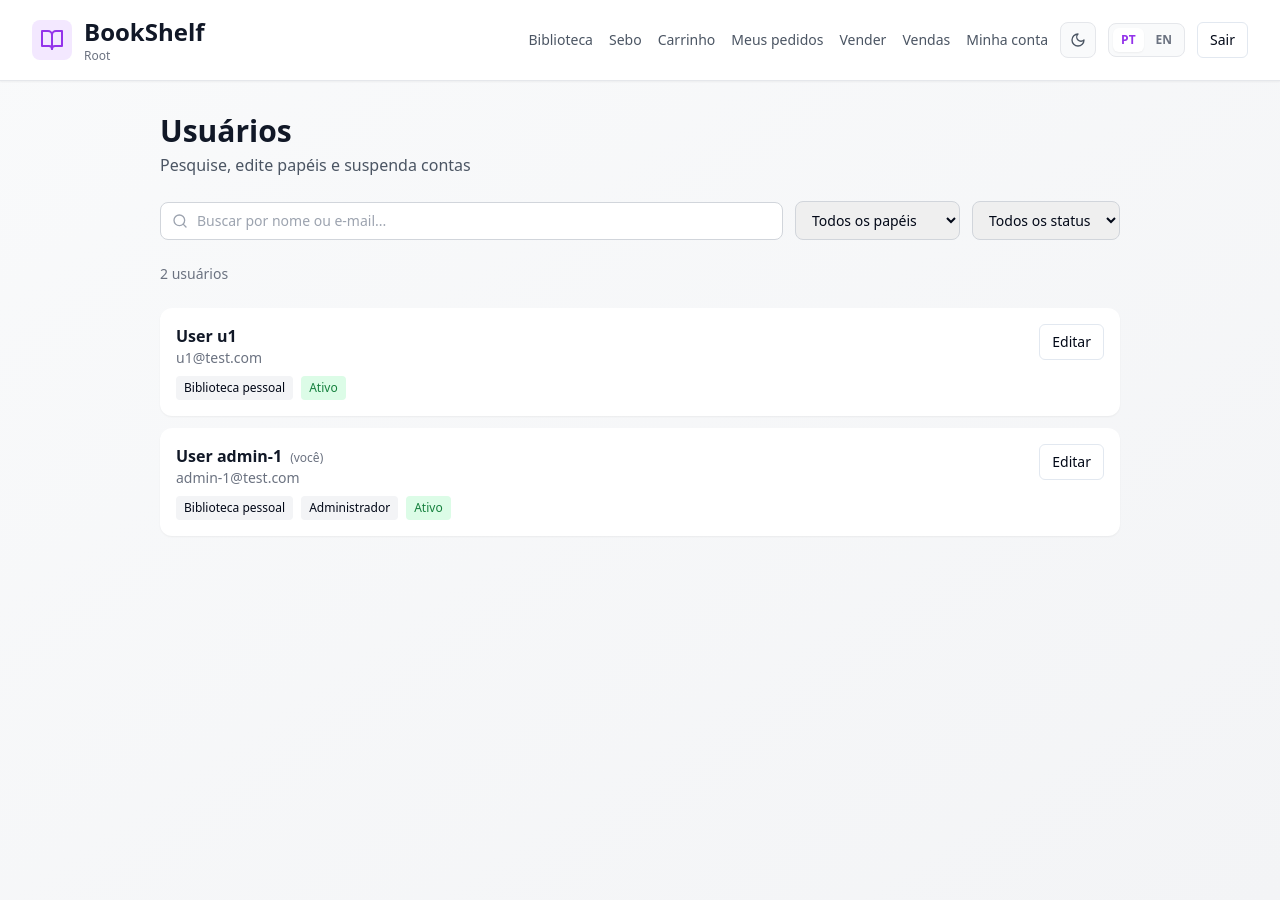
Test: AdminUsersPage editing › sends only what changed and reloads the list
The width and height of the screenshot is (1280, 900).
Click the button "Editar" in the row of "User u1".
click(1072, 342)  # box [1039,324,1104,360]
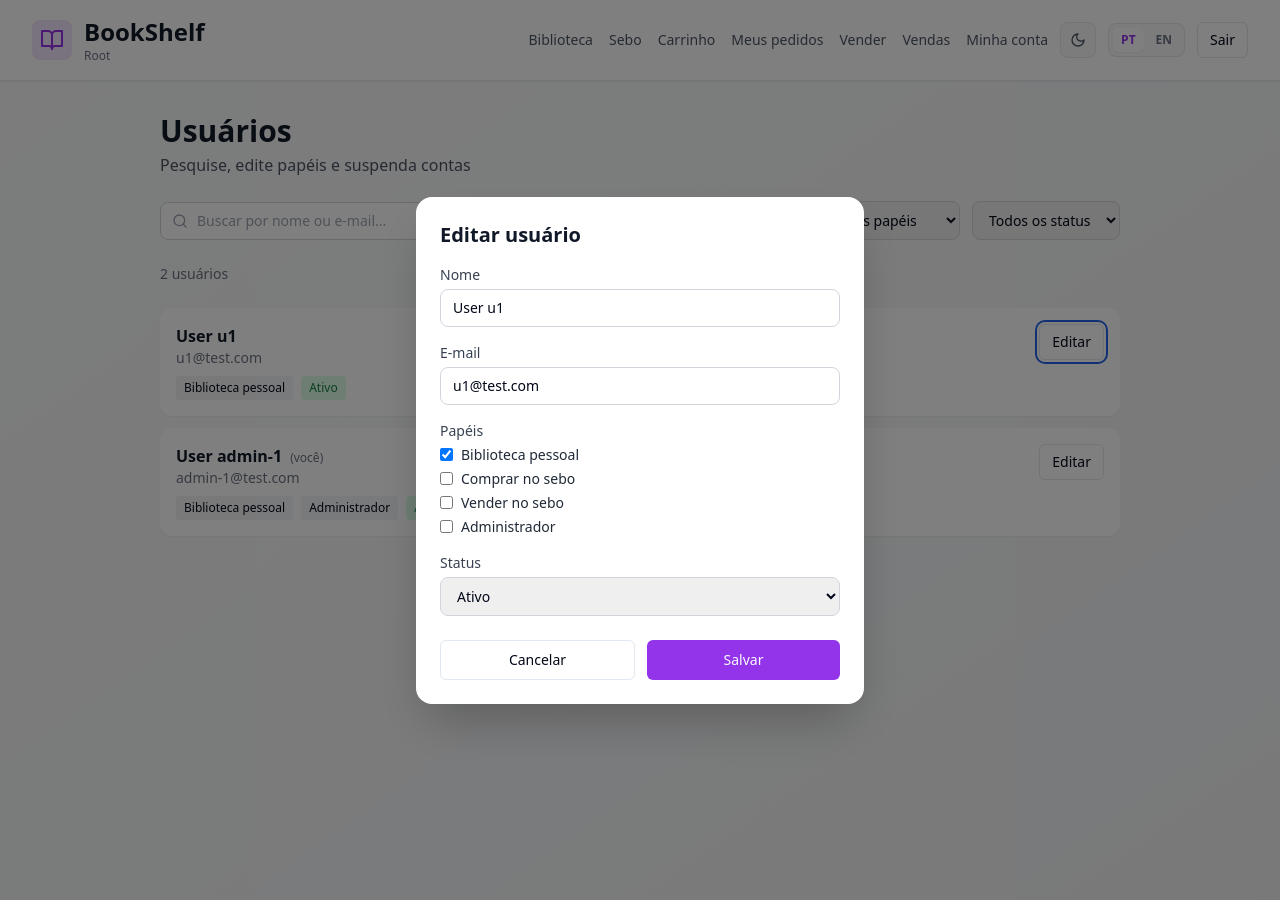
Replace the text in the field with test id "edit-user-name" with "Renamed" at (640, 308), box [440,288,840,326]
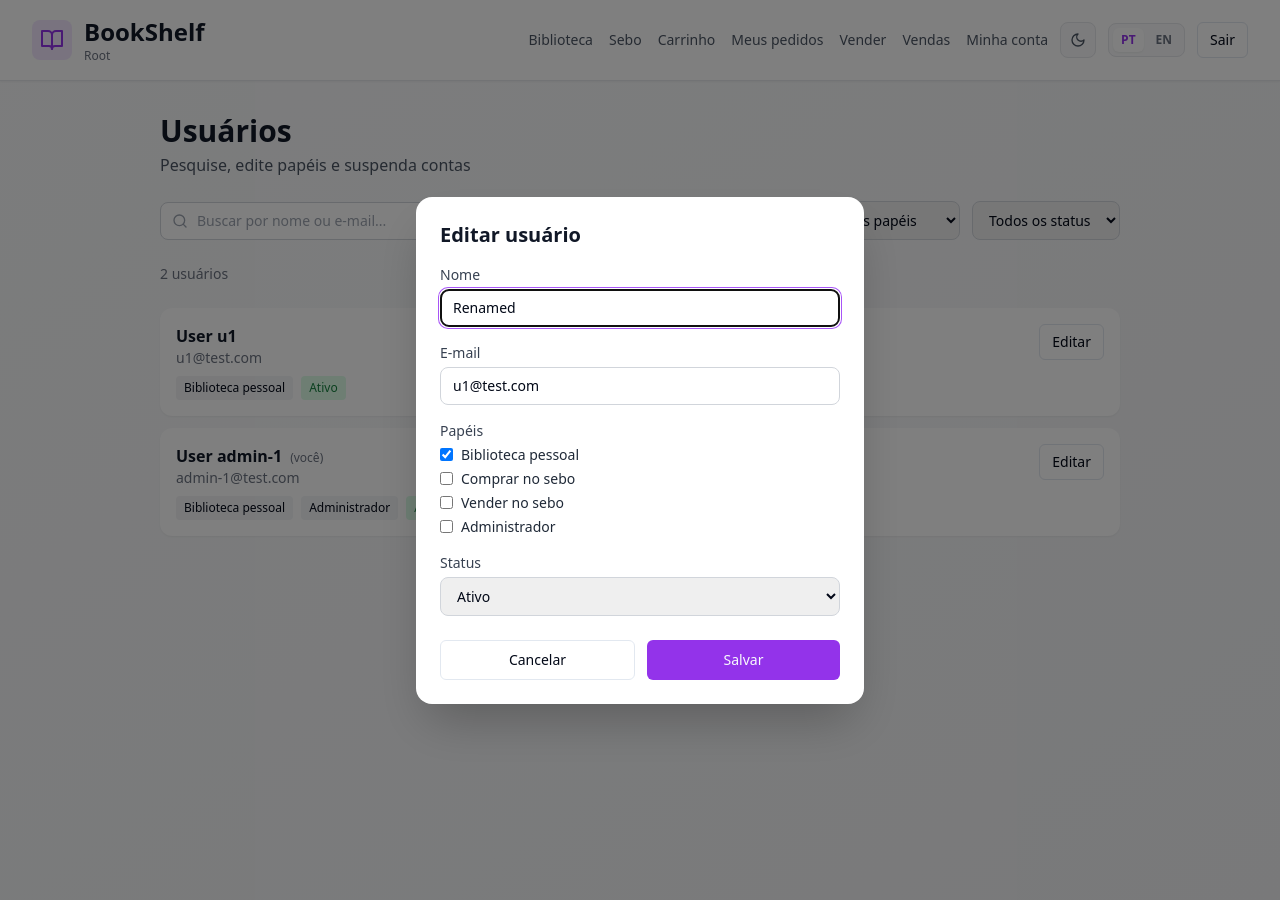
Click the checkbox with test id "edit-user-role-seller".
click(446, 502)  # box [440,496,453,509]
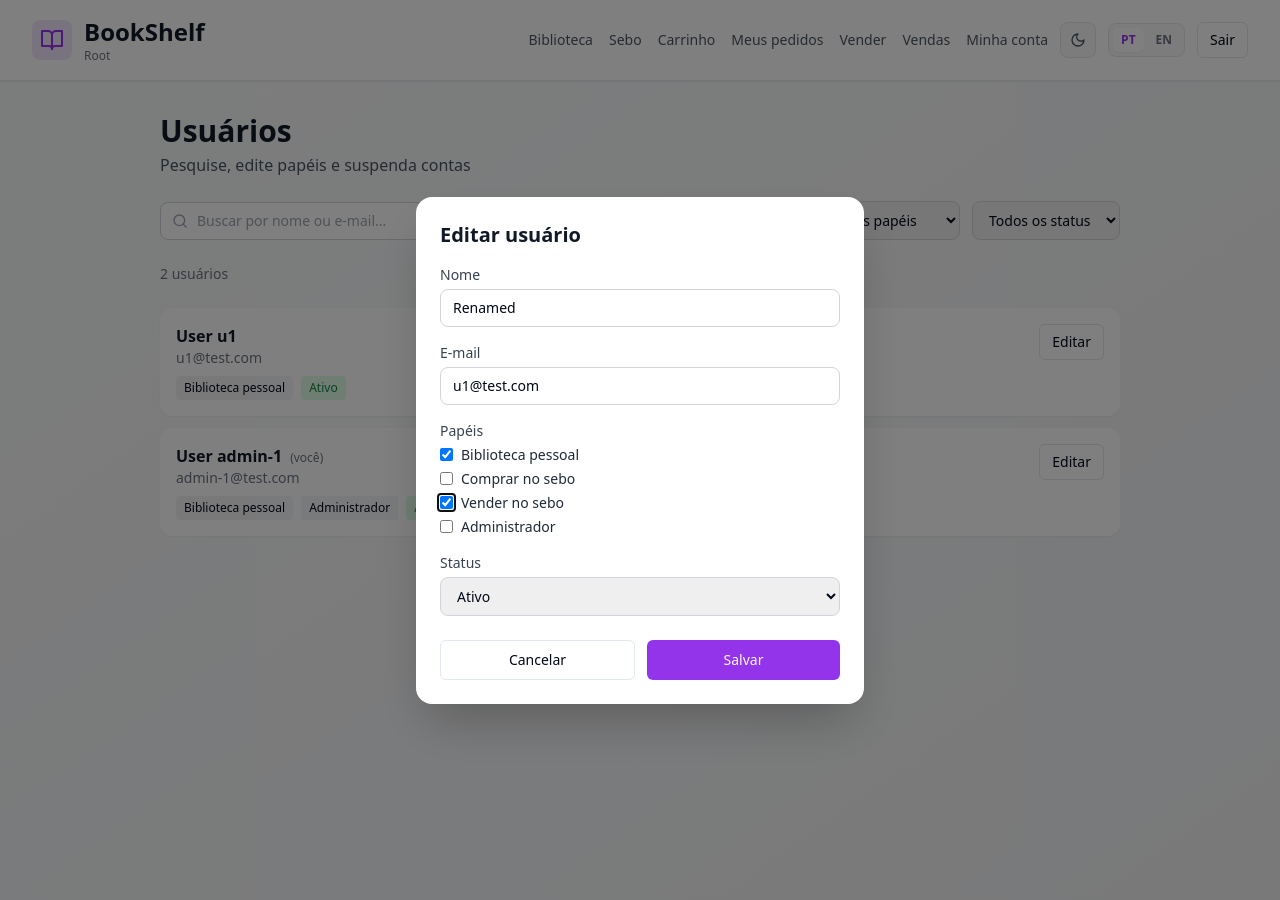
Select "Suspenso" in the dropdown with test id "edit-user-status" at (640, 596), box [440,576,840,616]
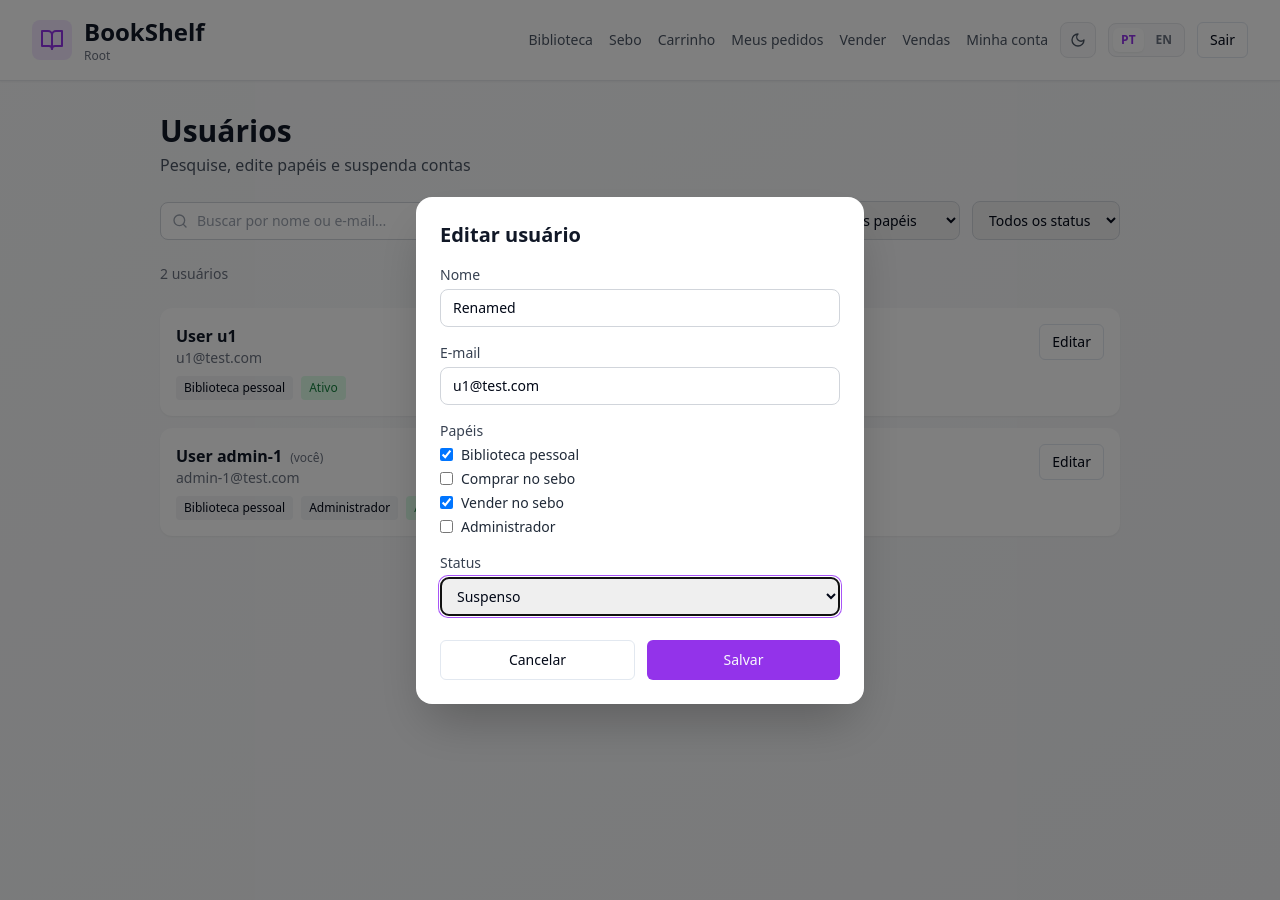
Click the button with test id "edit-user-save".
click(744, 660)  # box [647,640,840,680]
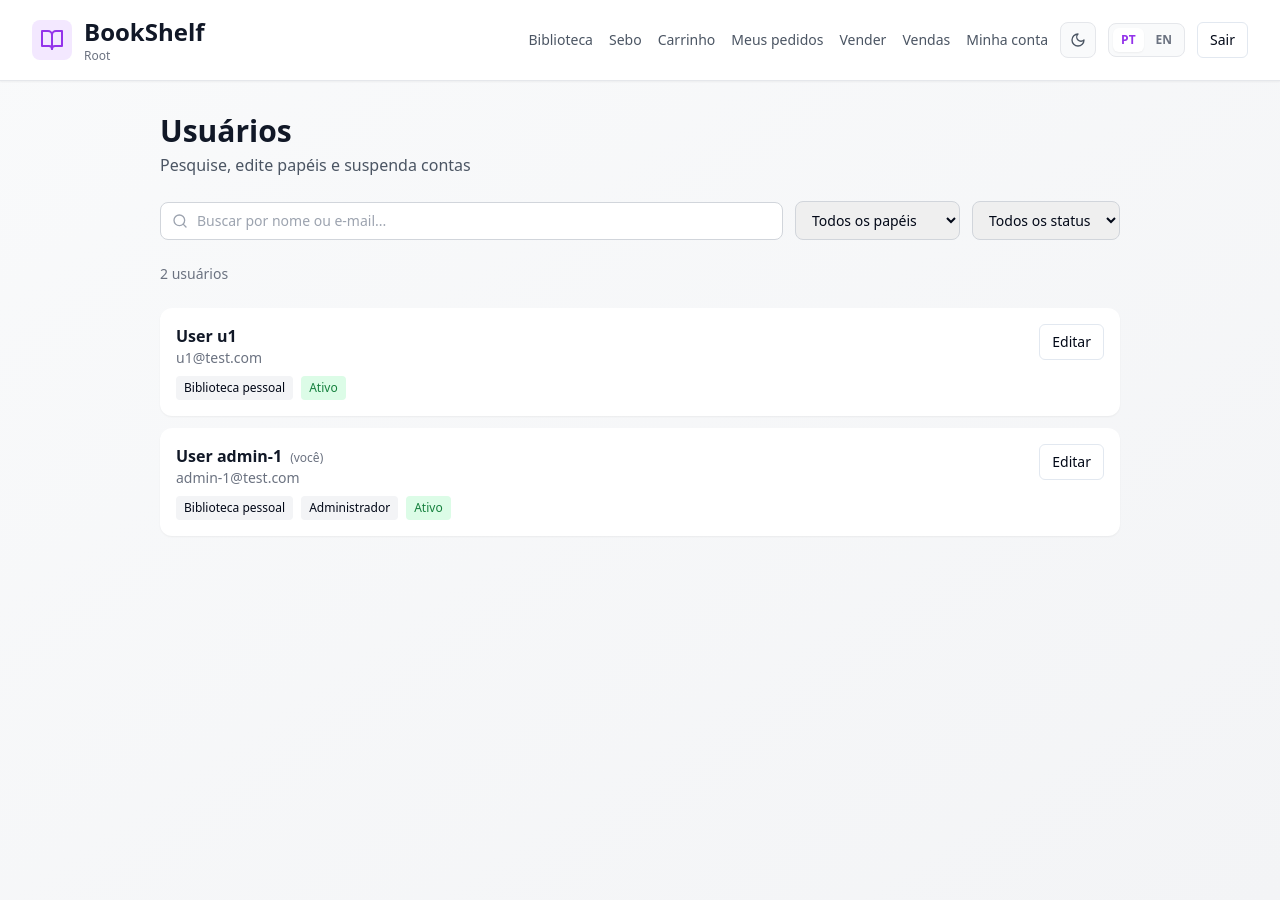
Expected: the dialog with test id "edit-user-dialog" is gone
